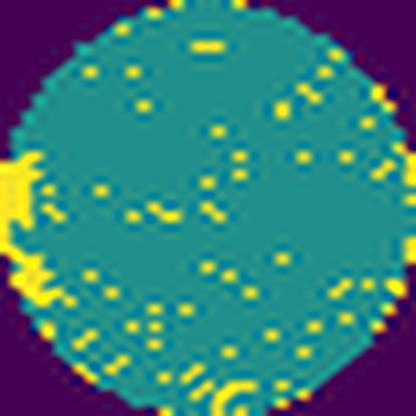Edge-Loc: (0, 147, 62, 303)
